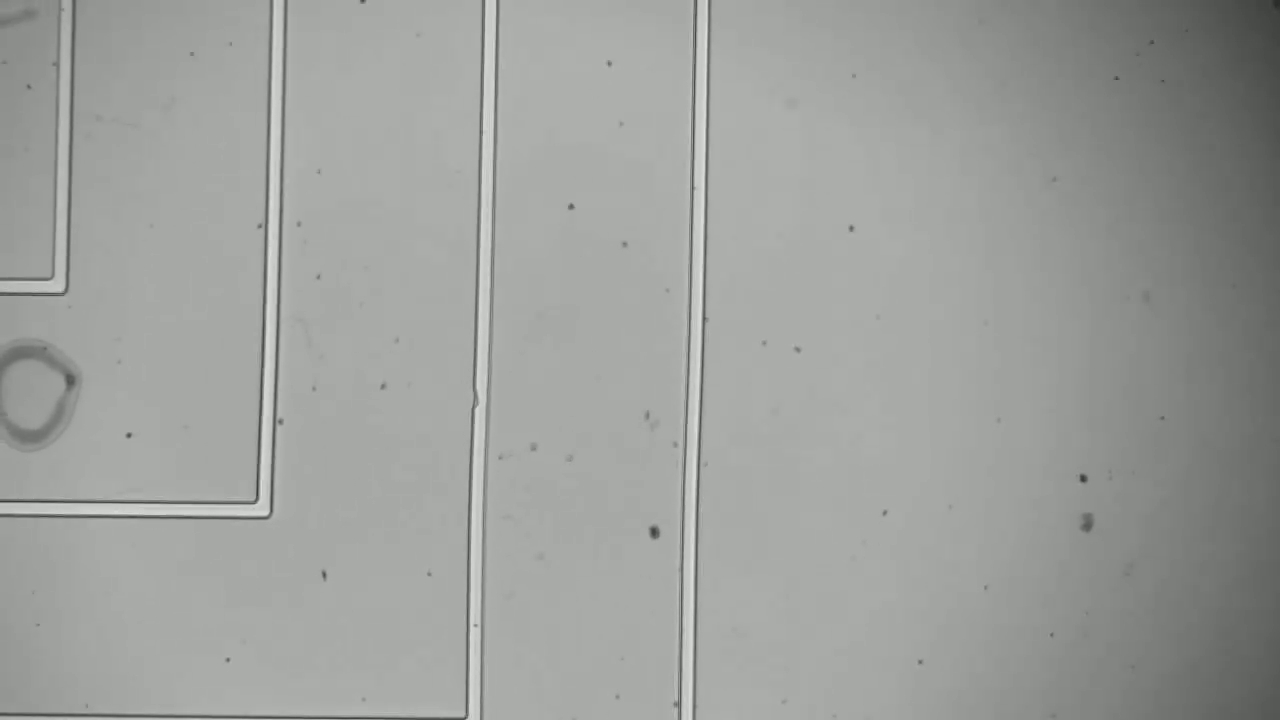edge_bite: (460, 381, 501, 416)
